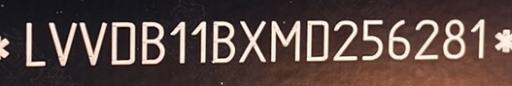letter: (104, 17, 138, 69), (270, 17, 306, 65), (414, 16, 444, 64), (46, 17, 76, 65), (238, 18, 268, 63), (76, 18, 106, 63), (306, 17, 334, 64), (186, 15, 212, 65), (20, 18, 46, 66), (359, 16, 387, 59), (140, 18, 166, 64), (208, 19, 234, 65), (332, 17, 358, 62), (468, 17, 492, 60), (388, 15, 410, 60), (440, 18, 466, 56), (168, 19, 186, 65)
